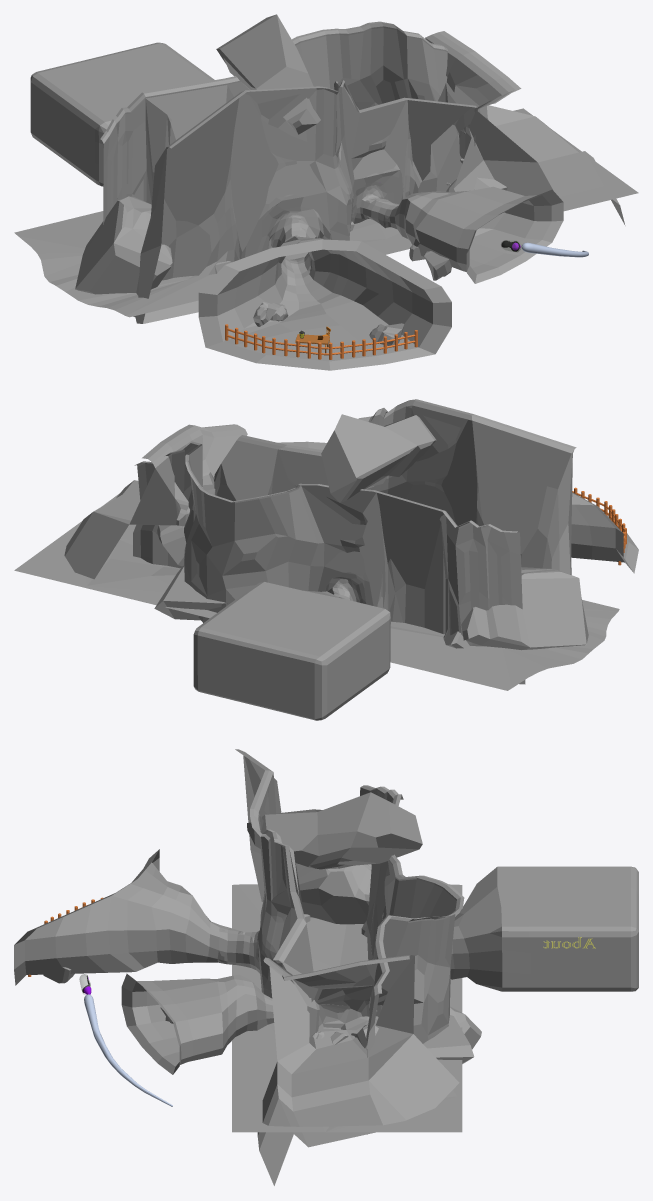
The picture shows the model from 3 angles, top to bottom: view 1: azimuth 30°, elevation 25°; view 2: azimuth 150°, elevation 25°; view 3: azimuth 270°, elevation 25°; orthographic projection. The views are drawn at different scales.
Parts seen in each view (by area): view 1: Scene; view 2: Scene; view 3: Scene.
Boxes of the visible parts, left/top/right/bottom form: Scene: left=14, top=14, right=638, bottom=370; Scene: left=14, top=399, right=638, bottom=720; Scene: left=14, top=749, right=638, bottom=1185.
Bounding box in the file's own units: 122 × 57.51 × 123.
